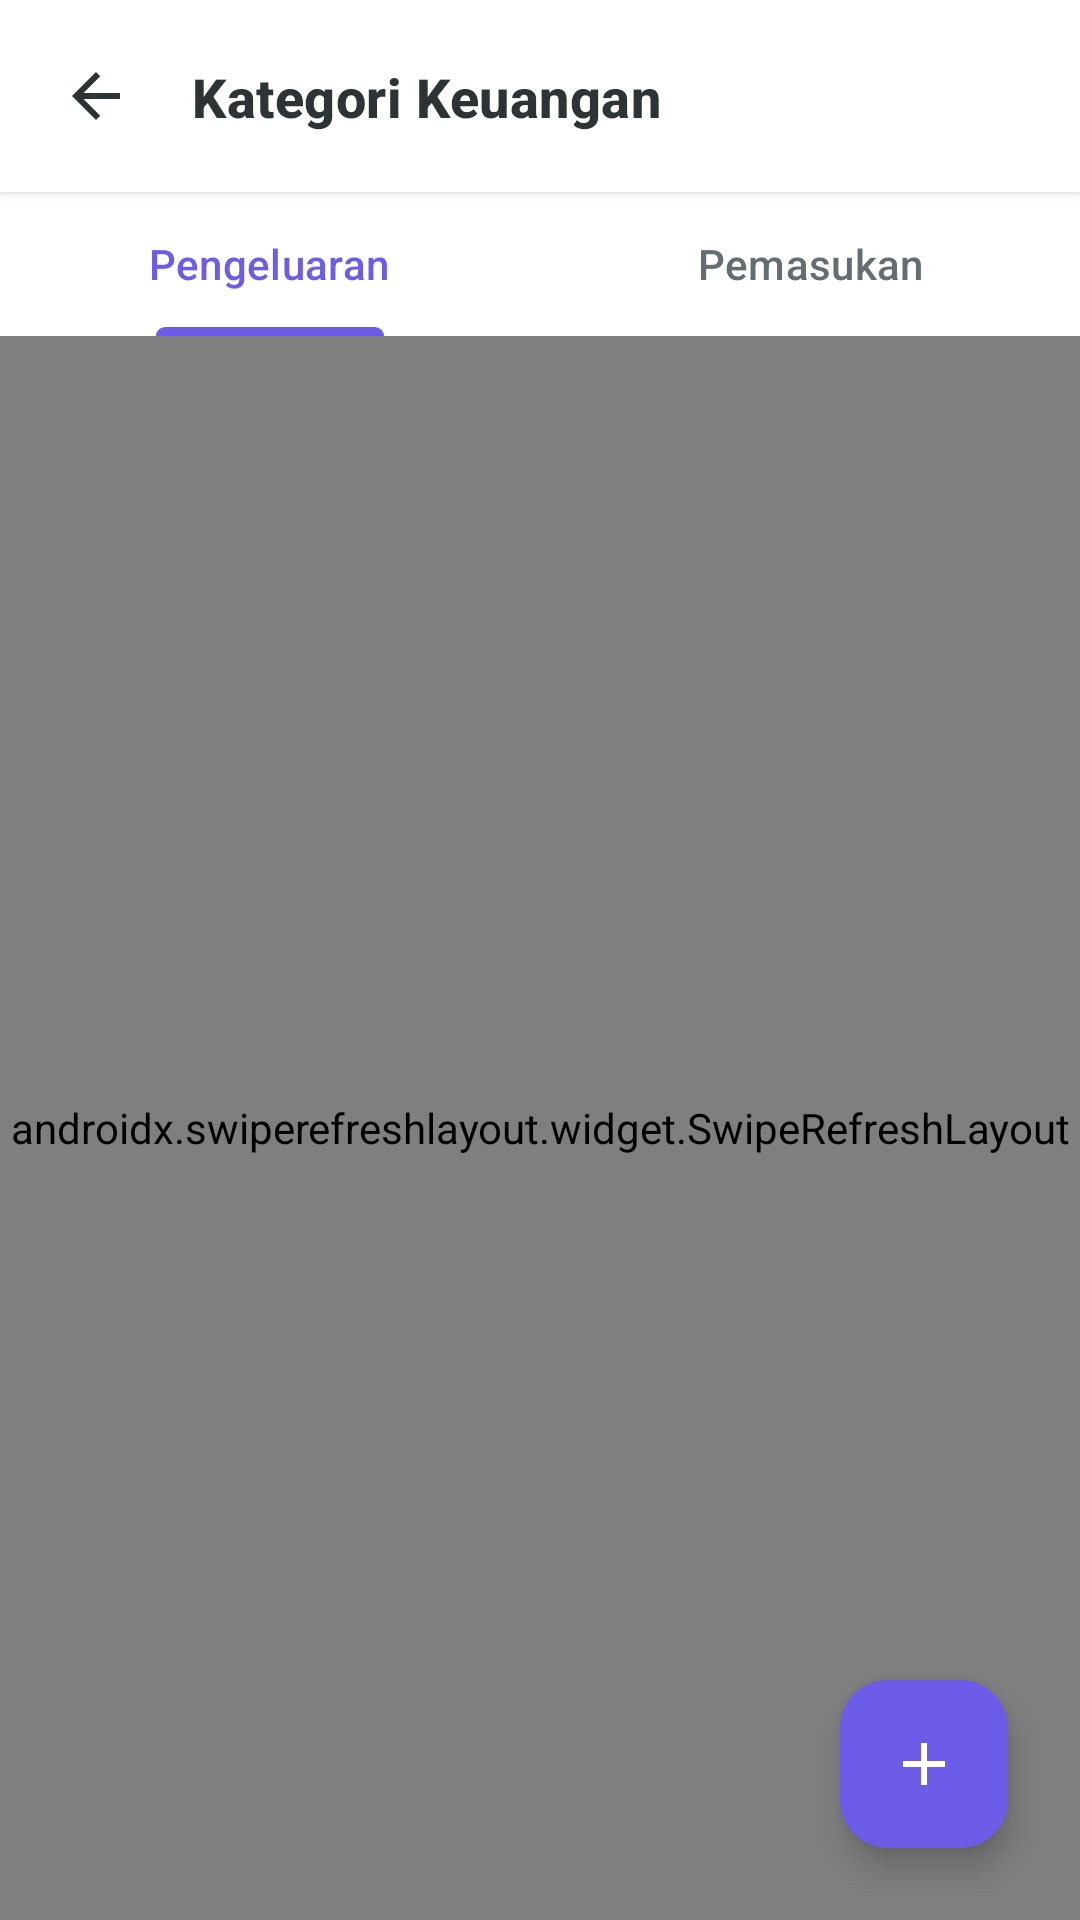

Icons on this 1080x1920 Android screen, each with the point to tap as point (x, y):
Add custom category: point (924, 1764)
Go Back: point (96, 96)
